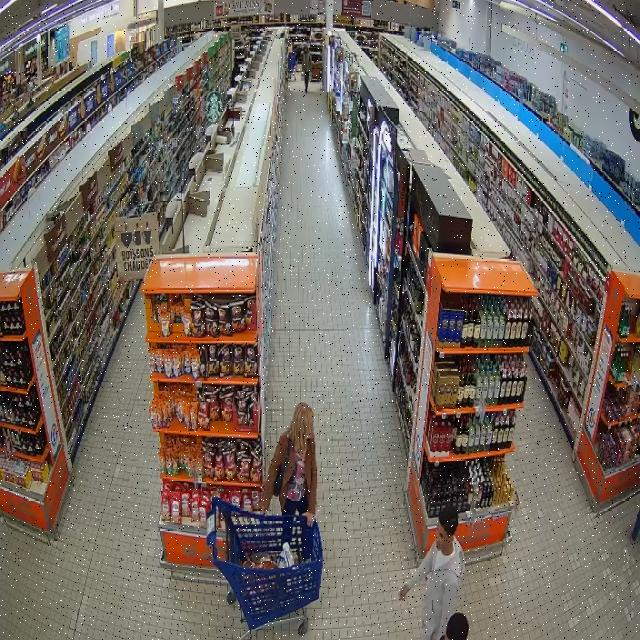bags: (273, 436, 290, 497)
hands: (302, 512, 315, 527), (399, 585, 408, 600)
person: (400, 504, 464, 639), (259, 402, 317, 524)
